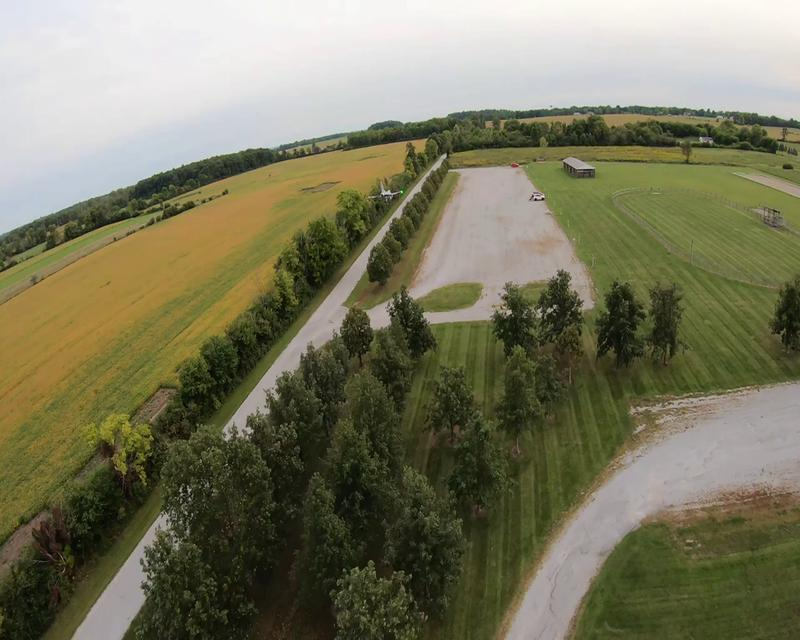UAV: (368, 181, 404, 205)
